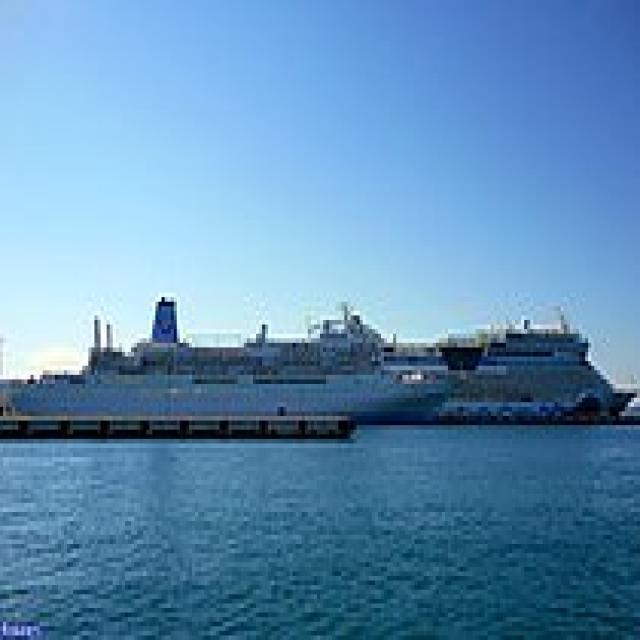Ship: (4, 280, 455, 449), (400, 308, 640, 445)
